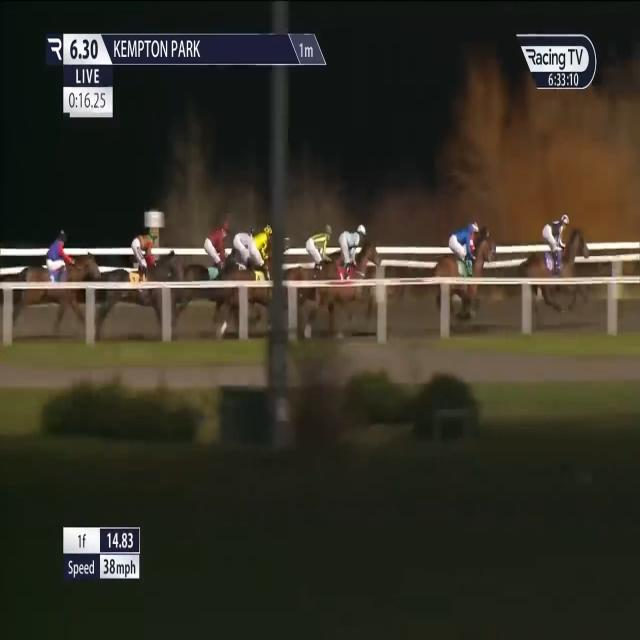horses-racing: (18, 224, 99, 323), (108, 221, 171, 334), (523, 206, 587, 306), (178, 216, 234, 325), (236, 212, 288, 326), (325, 211, 377, 313), (284, 216, 334, 303), (438, 222, 472, 295), (219, 220, 253, 284), (450, 220, 497, 266)
